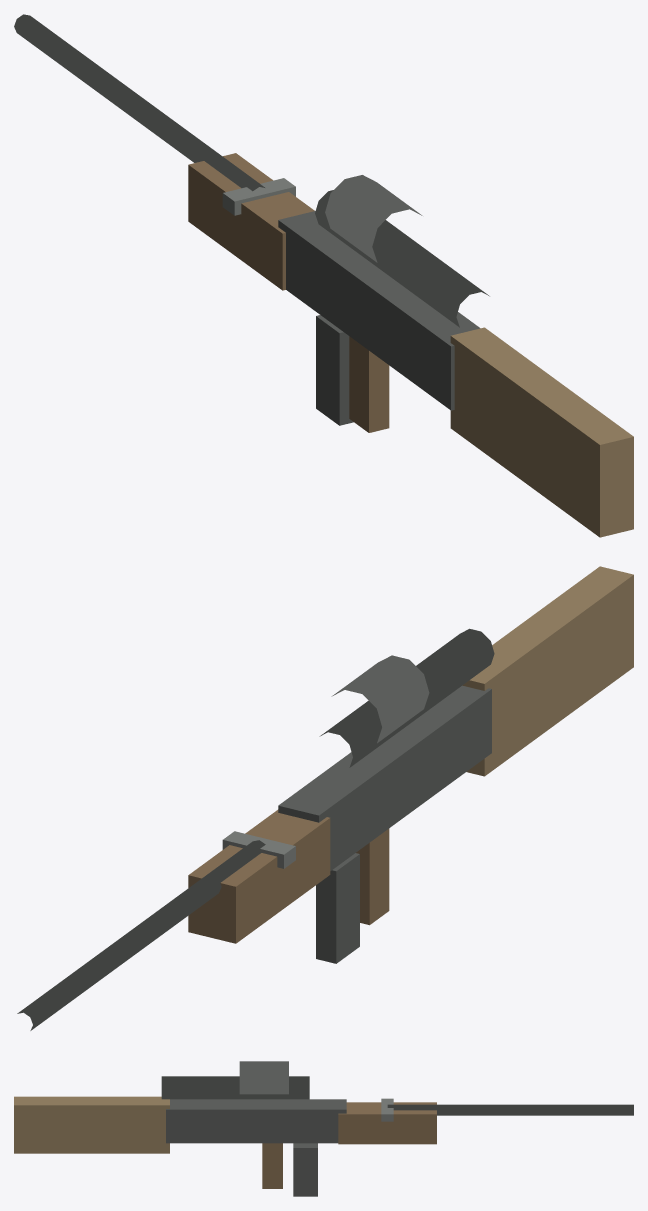
The model's file is w_svd.glb.
3 renders of one model, top to bottom at view 1: azimuth 30°, elevation 25°; view 2: azimuth 150°, elevation 25°; view 3: azimuth 270°, elevation 25°, orthographic. The views are drawn at different scales.
Parts seen in each view (by area): view 1: body; view 2: body; view 3: body.
Part boxes in pixels (x1=…): body: x1=14, y1=14, x2=633, y2=537; body: x1=17, y1=566, x2=633, y2=1030; body: x1=14, y1=1061, x2=633, y2=1196.
Size of the model in its own units: 0.09 by 0.3499 by 1.51.
